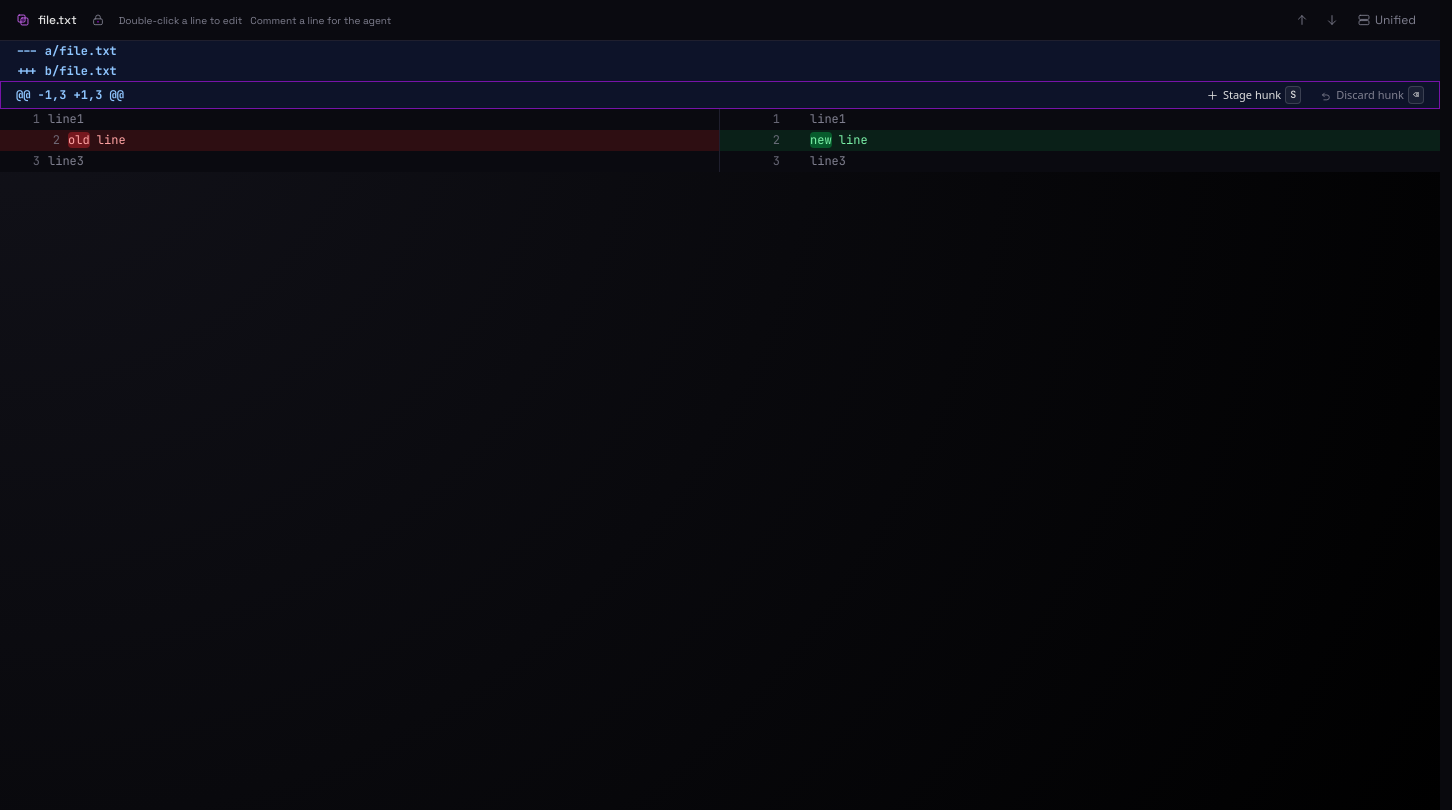
Test: DiffViewer inline edit › opens an editor on double-click of the new-file side
This screenshot has width=1452, height=810.
Double-click the element showing "2 new line": (1080, 140) [720,130,1440,151]
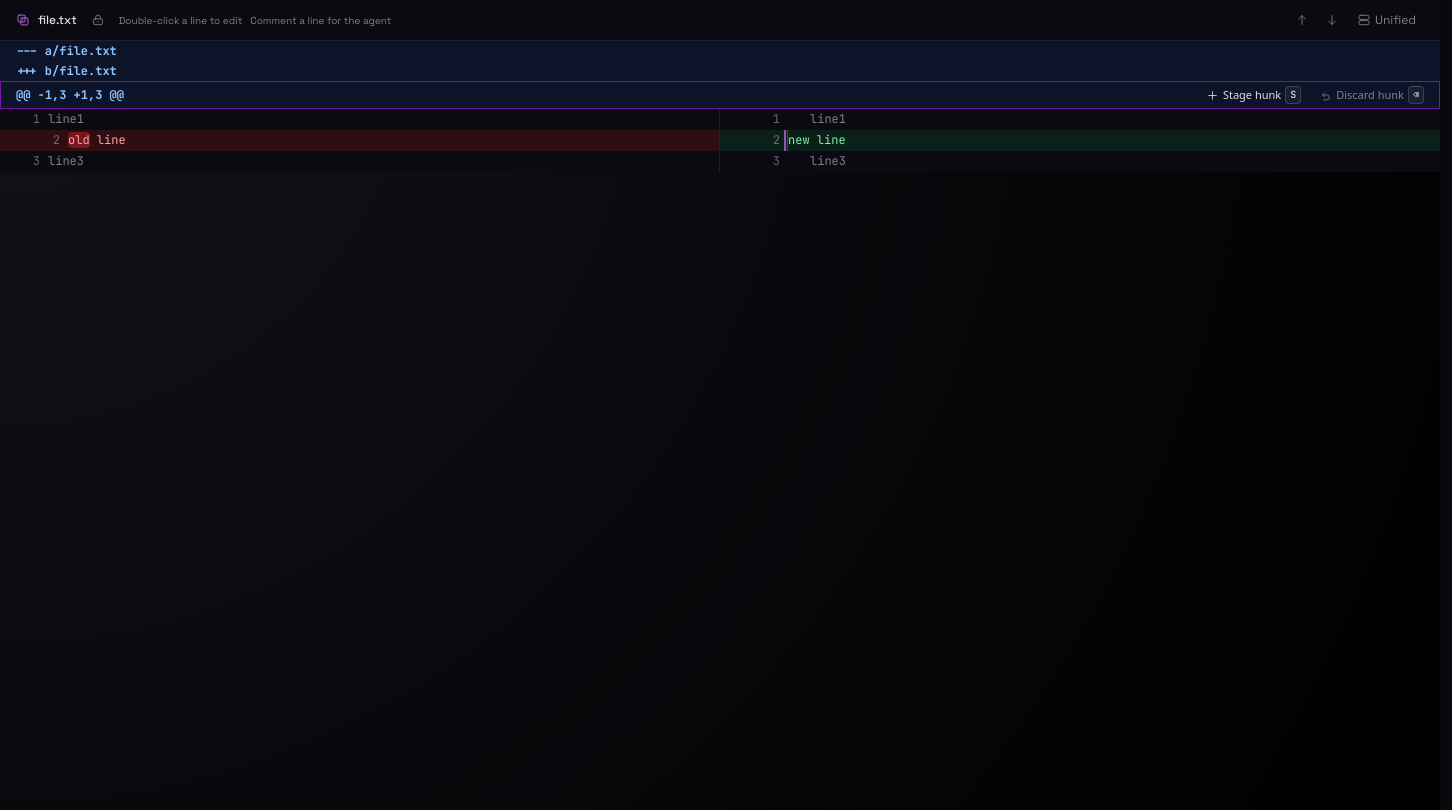
Expected: the text box with test id "diff-line-editor" holds "new line", [788,130,1440,151]
